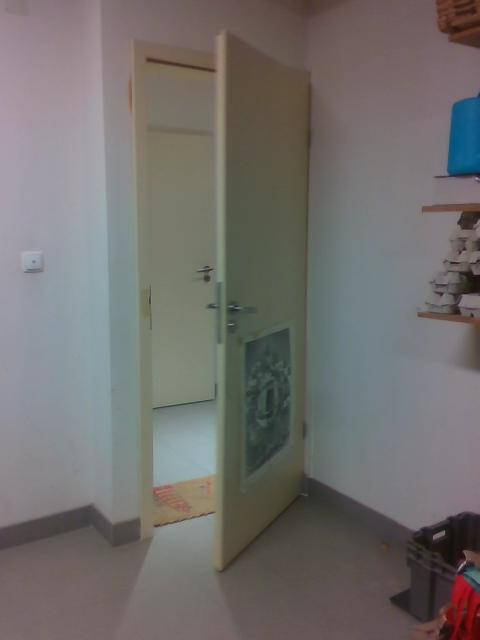semi_door: (127, 28, 315, 574)
